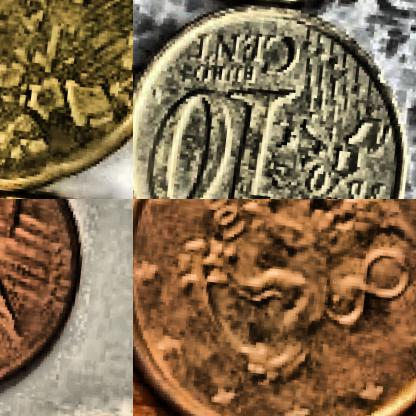coin: (133, 199, 415, 415), (133, 0, 415, 198), (0, 0, 132, 198), (0, 199, 95, 404)
